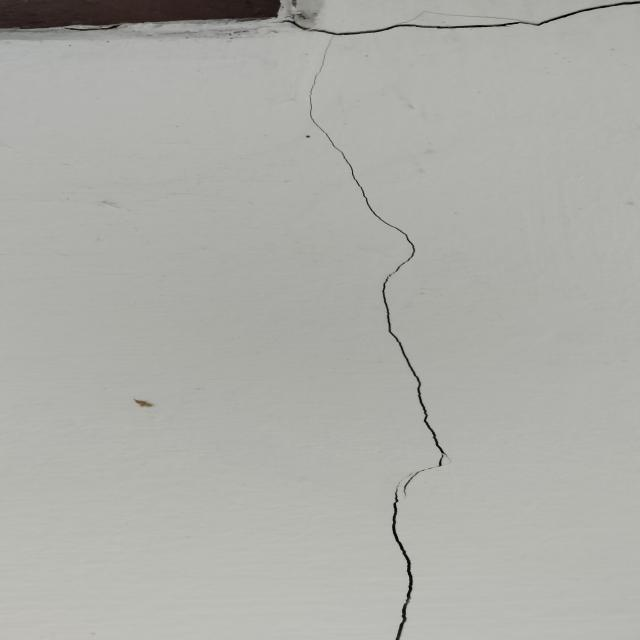Crack: (297, 35, 451, 640), (287, 0, 639, 35)
